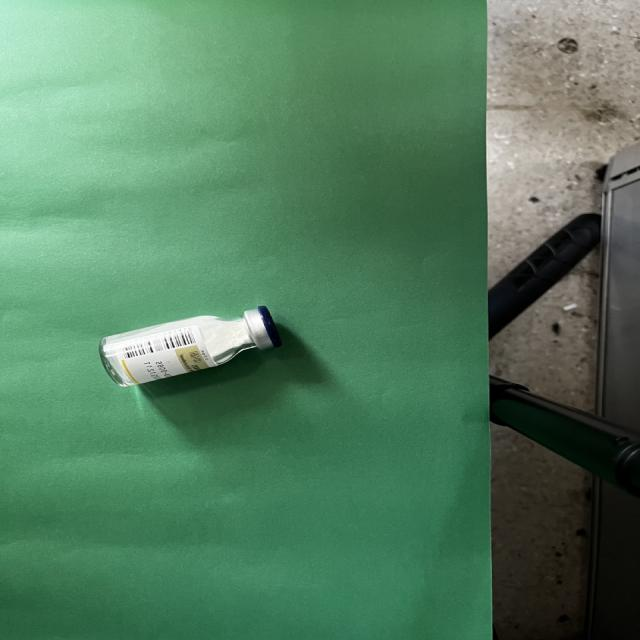Vials: (100, 306, 282, 386)
